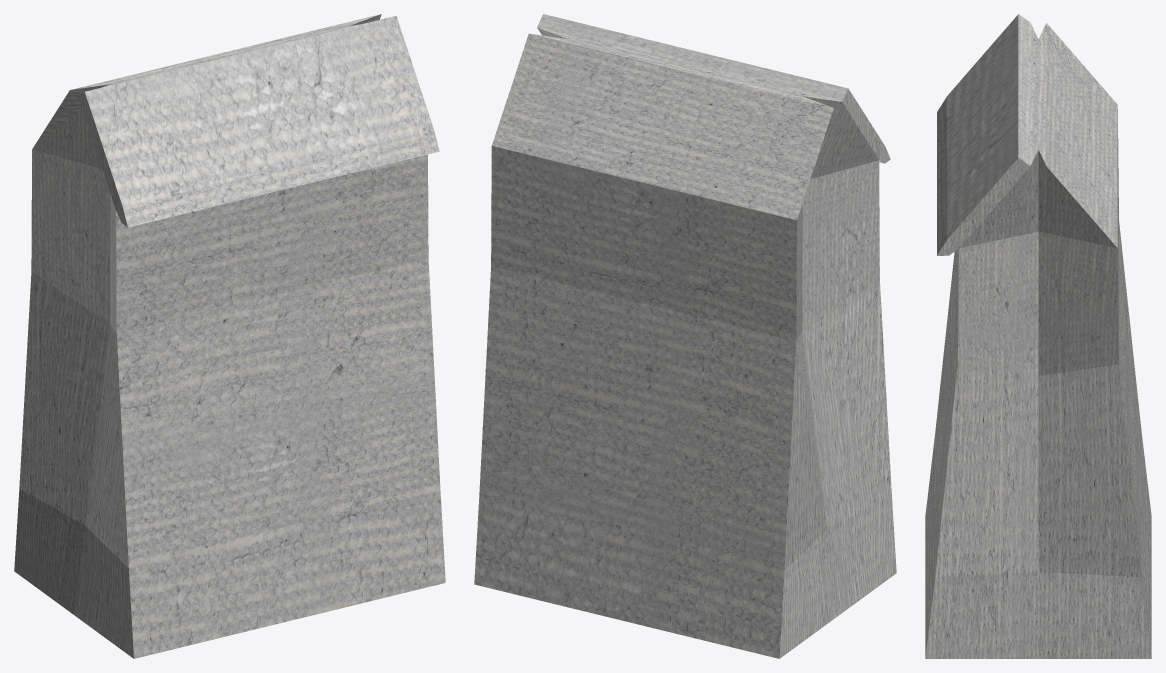
The model's file is seed_bag.glb.
The picture shows the model from 3 angles, left to right: view 1: azimuth 30°, elevation 25°; view 2: azimuth 150°, elevation 25°; view 3: azimuth 270°, elevation 25°; orthographic projection. The views are drawn at different scales.
Parts seen in each view (by area): view 1: seed_bag; view 2: seed_bag; view 3: seed_bag.
Boxes of the visible parts, x1,y1,x2,y2 form: seed_bag: (14,14,445,658); seed_bag: (474,14,896,658); seed_bag: (925,14,1151,658).
Bounding box in the file's own units: 0.3 × 0.4884 × 0.1996.
Materials: 1 (1 with a texture image).
